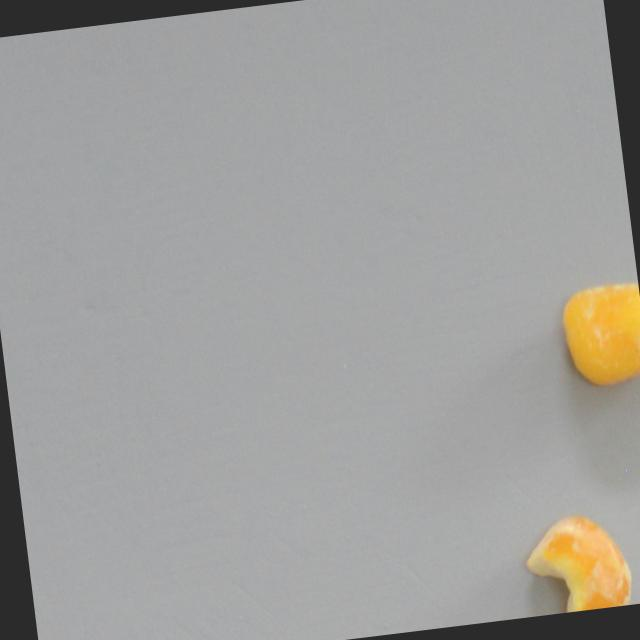pelicula: (518, 512, 633, 617), (557, 281, 640, 390)
